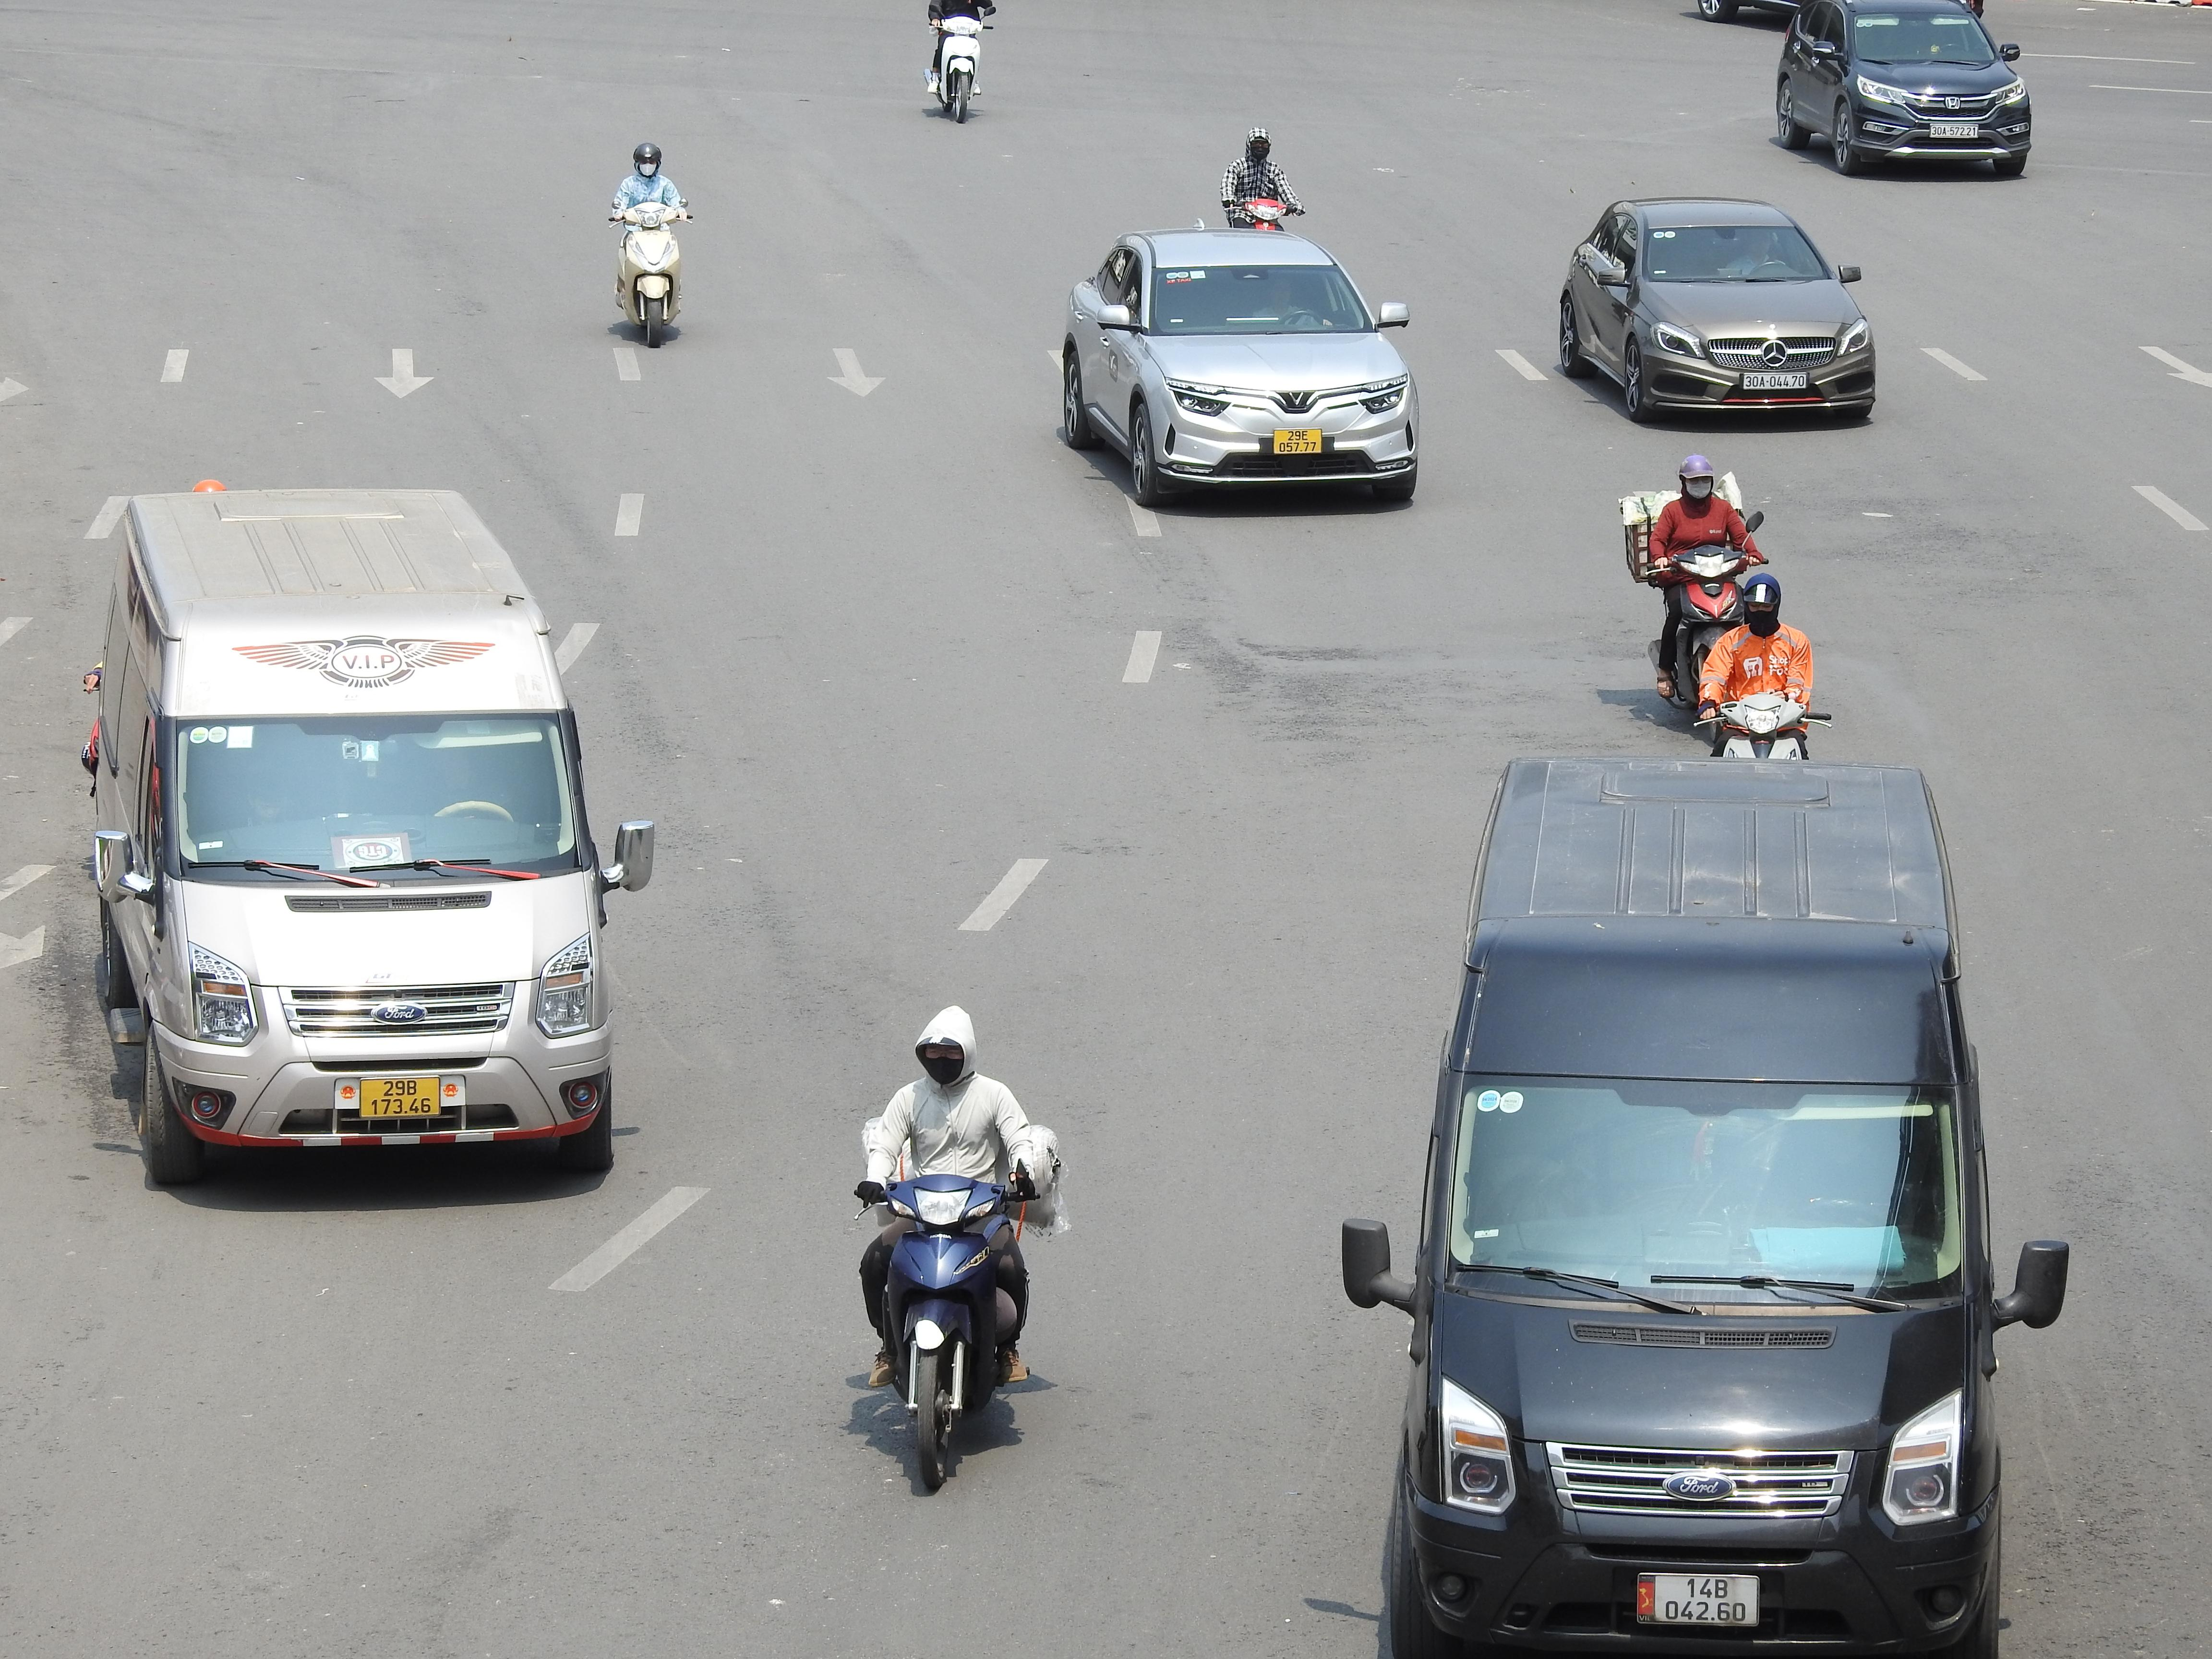BSD: (1743, 373, 1808, 390), (1930, 124, 1979, 138)
BSV: (1637, 1574, 1759, 1626), (361, 1079, 439, 1119), (1273, 427, 1322, 455)
bus: (1327, 735, 2074, 1659), (80, 481, 653, 1185)
car: (1055, 225, 1421, 511), (1554, 195, 1878, 425), (1773, 0, 2034, 179)
motorbike: (850, 1004, 1062, 1497), (1625, 451, 1768, 727), (1696, 570, 1822, 760), (610, 141, 688, 350), (925, 0, 995, 124), (1219, 127, 1303, 230)
